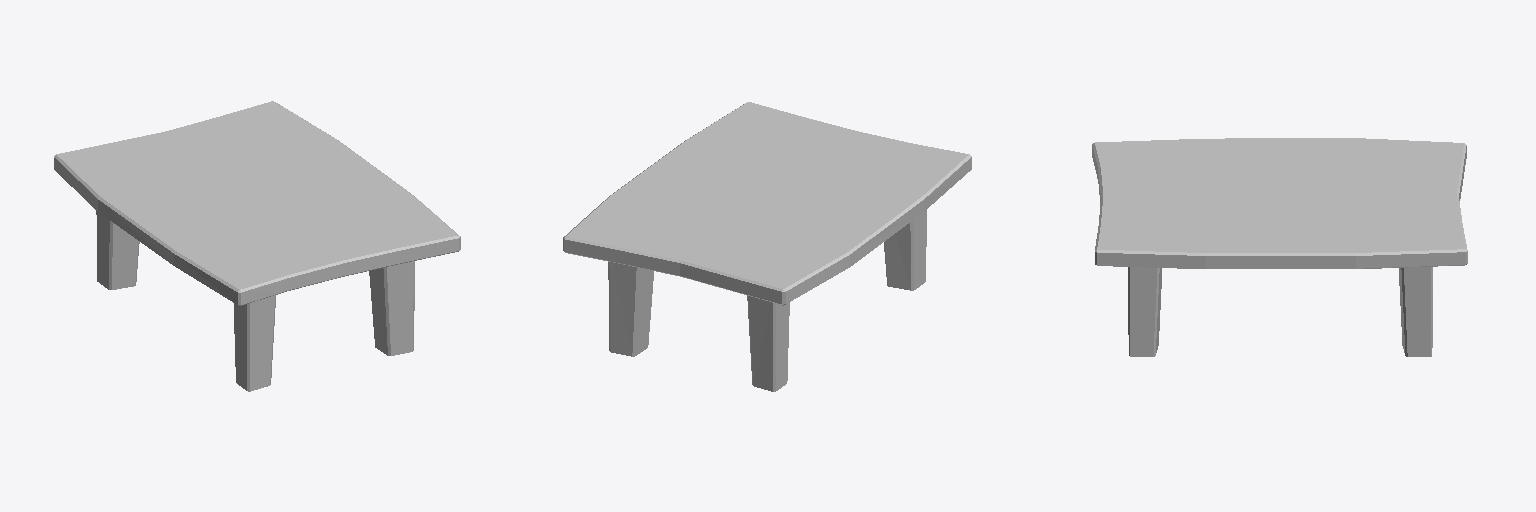
The model's file is left_table.obj.
The picture shows the model from 3 angles: view 1: azimuth 30°, elevation 25°; view 2: azimuth 150°, elevation 25°; view 3: azimuth 270°, elevation 25°; orthographic projection.
Parts seen in each view (by area): view 1: table-top_Cube.003; view 2: table-top_Cube.003; view 3: table-top_Cube.003.
Part boxes in pixels (bbox=[...]): table-top_Cube.003: bbox=[54, 101, 460, 391]; table-top_Cube.003: bbox=[563, 102, 971, 391]; table-top_Cube.003: bbox=[1092, 138, 1467, 356].
Size of the model in its own units: 579 by 278 by 782.